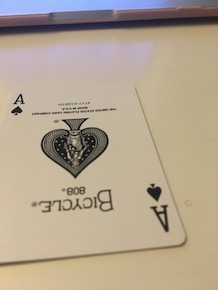AceOfSpades: (1, 79, 190, 265)
